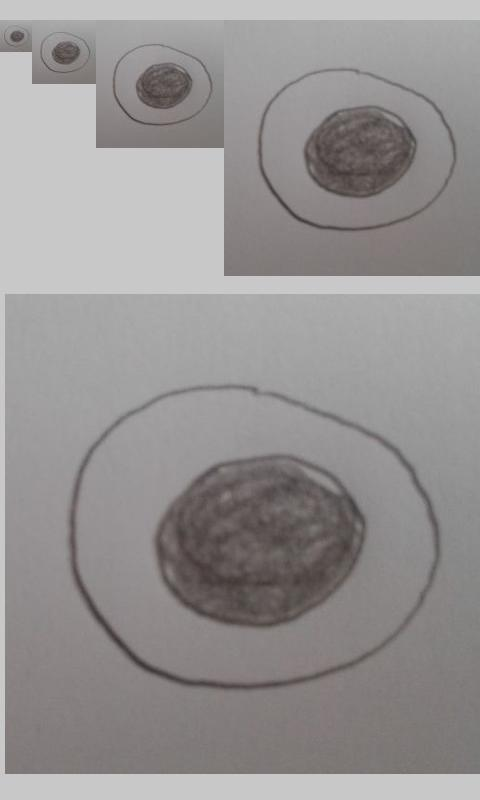radio_button: (65, 379, 445, 694), (254, 65, 459, 233), (111, 41, 215, 127), (39, 30, 91, 74), (3, 24, 30, 48)
